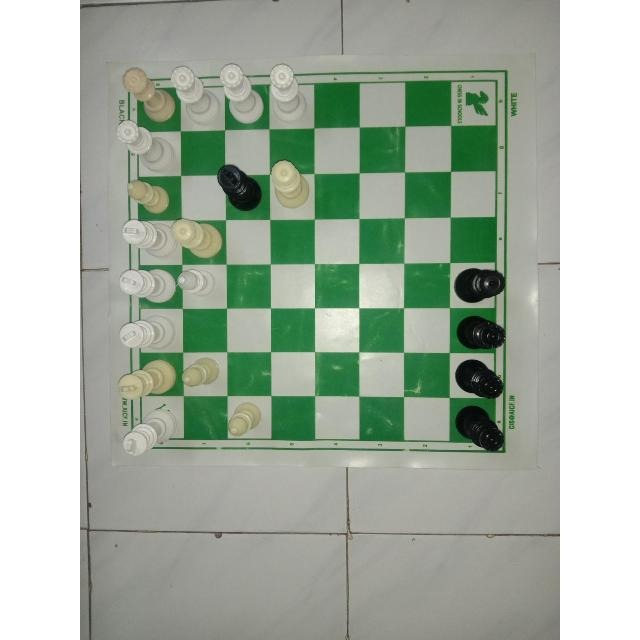black-king: (215, 162, 265, 214)
black-queen: (449, 403, 508, 453), (452, 356, 506, 403), (450, 314, 510, 356), (453, 265, 507, 307)
white-bishop: (122, 175, 175, 214), (224, 396, 270, 440), (174, 265, 218, 302), (180, 355, 224, 391)
white-king: (117, 406, 181, 457), (117, 214, 185, 259), (113, 356, 179, 402), (116, 265, 179, 307), (117, 312, 178, 352)
white-queen: (112, 115, 180, 175), (168, 65, 224, 129), (121, 64, 179, 125), (218, 61, 268, 126), (263, 62, 311, 124), (165, 214, 225, 260), (267, 155, 314, 213)
